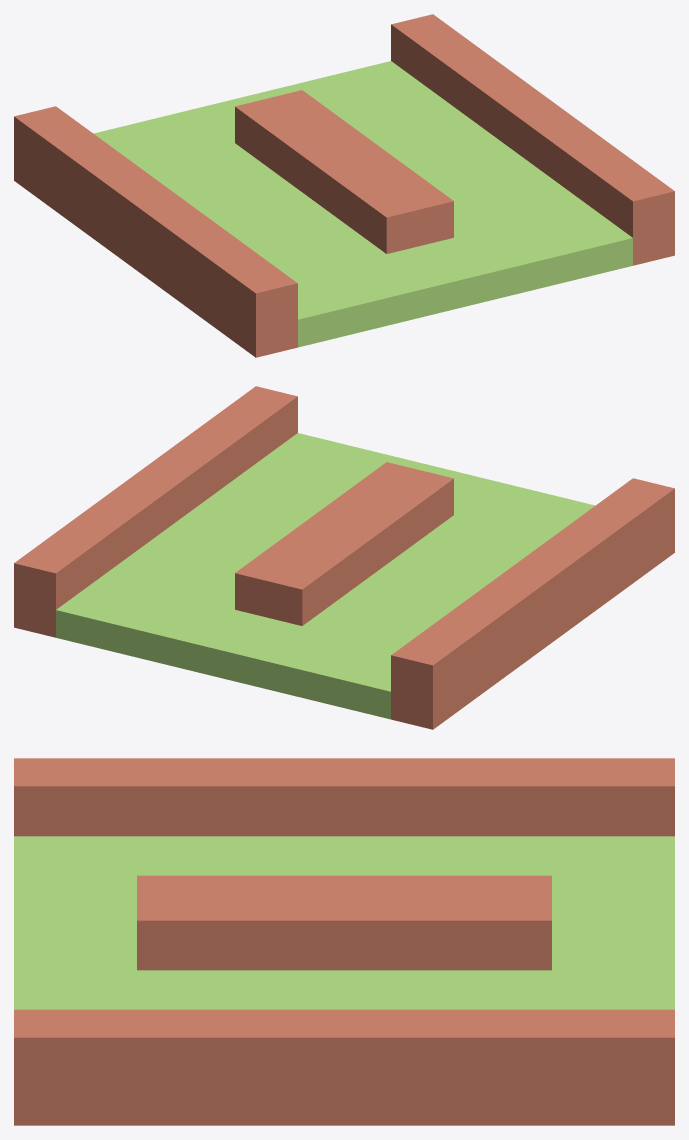
The model's file is Obstacle_block_01.glb.
3 renders of one model, top to bottom at view 1: azimuth 30°, elevation 25°; view 2: azimuth 150°, elevation 25°; view 3: azimuth 270°, elevation 25°, orthographic. The views are drawn at different scales.
Parts seen in each view (by area): view 1: Mesh1 Obstacle_block Model; view 2: Mesh1 Obstacle_block Model; view 3: Mesh1 Obstacle_block Model.
Boxes of the visible parts, bbox=[...] form: Mesh1 Obstacle_block Model: bbox=[14, 14, 674, 357]; Mesh1 Obstacle_block Model: bbox=[14, 386, 674, 729]; Mesh1 Obstacle_block Model: bbox=[14, 758, 674, 1125].
Bounding box in the file's own units: 3 × 0.44 × 3.
